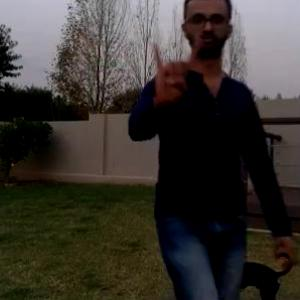takeoff-hand: (146, 35, 203, 109)
